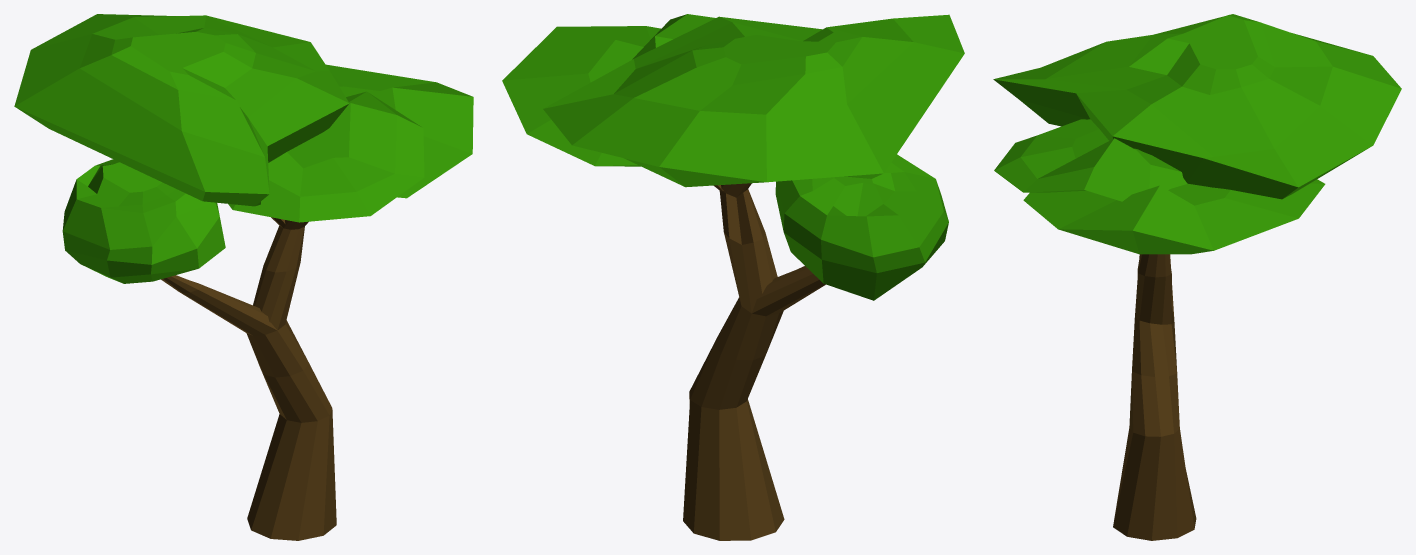
File: treeDarkGreen.fbx
3 renders of one model, left to right at view 1: azimuth 30°, elevation 25°; view 2: azimuth 150°, elevation 25°; view 3: azimuth 270°, elevation 25°, orthographic. The views are drawn at different scales.
Visible parts, largest first — view 1: Plane; view 2: Plane; view 3: Plane.
Boxes of the visible parts, x1,y1,x2,y2 form: Plane: [14, 14, 473, 540]; Plane: [502, 14, 964, 540]; Plane: [993, 14, 1401, 540].
Size of the model in its own units: 20.16 by 19.76 by 24.06.
